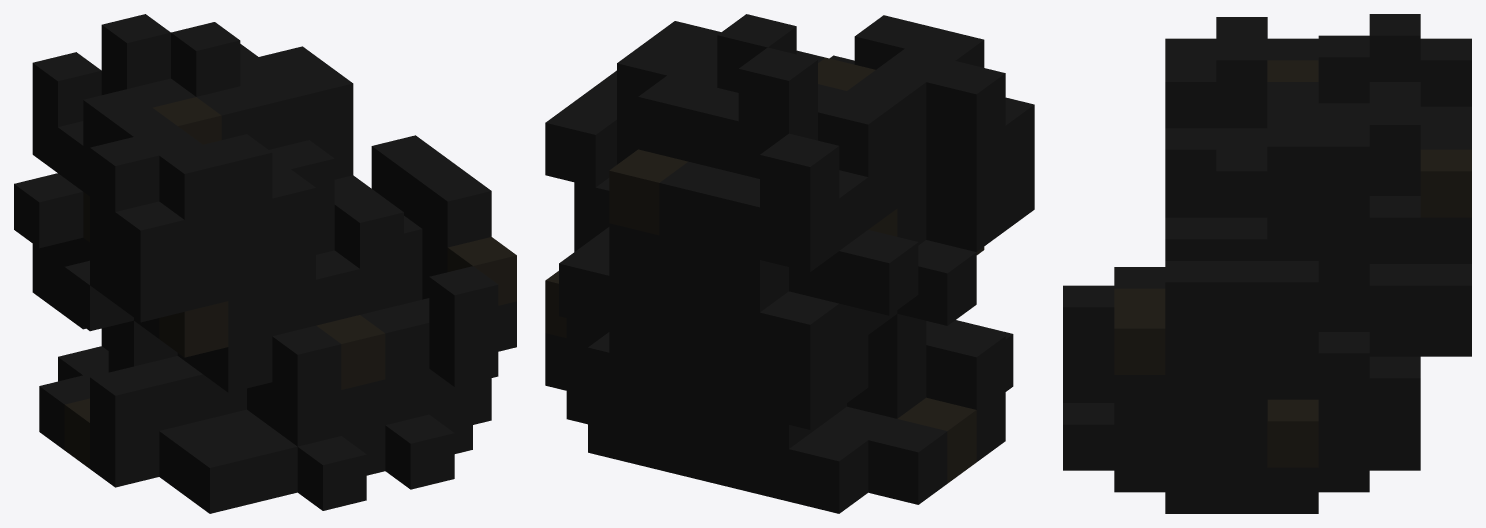
File: Charcoal.obj
The picture shows the model from 3 angles, left to right: view 1: azimuth 30°, elevation 25°; view 2: azimuth 150°, elevation 25°; view 3: azimuth 270°, elevation 25°; orthographic projection. The views are drawn at different scales.
Size of the model in its own units: 0.8 by 0.8 by 0.8.
1 material, 1 textured.
